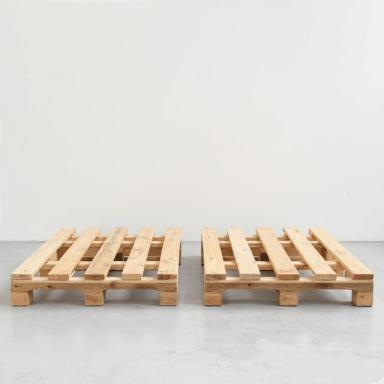pallet: (201, 225, 374, 306), (10, 226, 182, 306)
